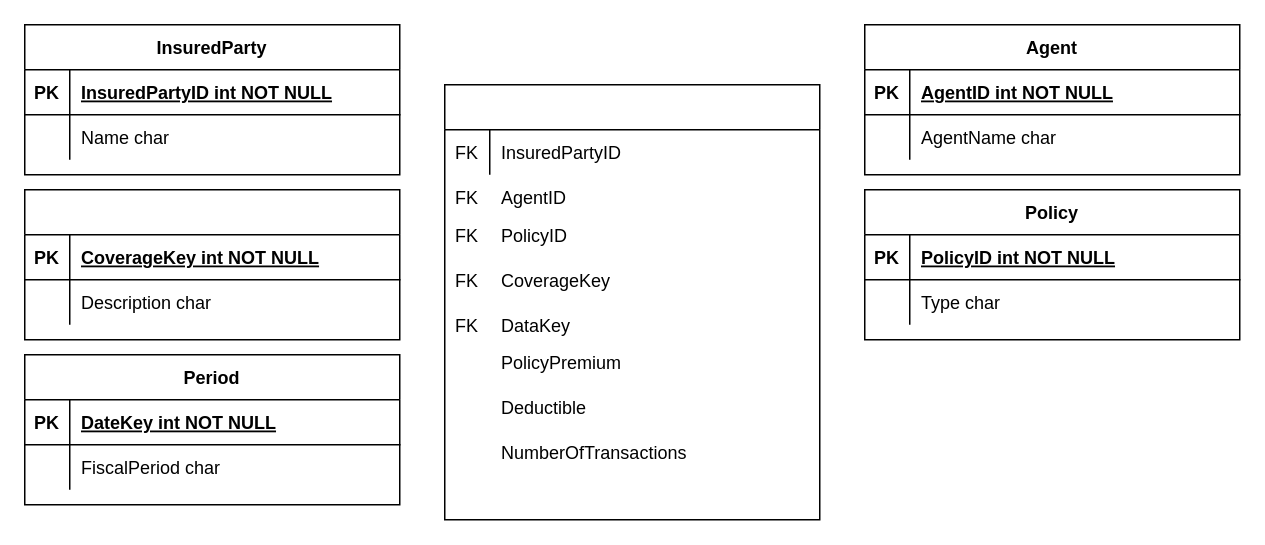
Some shapes in this 1265 by 545 pixel diagram are drawn without their labels. The box of each missing label's shape, as (x1, y1, x2, y2) in pixels:
CoverageItem: (23, 188, 400, 340)
Premium Fact Table: (443, 83, 820, 520)
